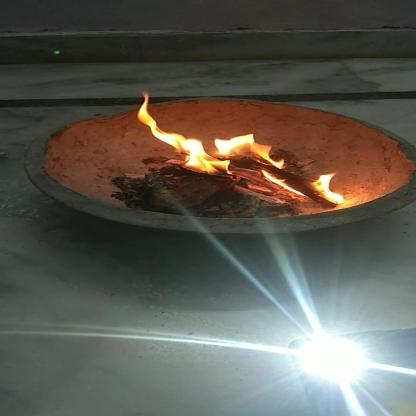fire: (123, 92, 289, 178), (311, 172, 350, 204)
